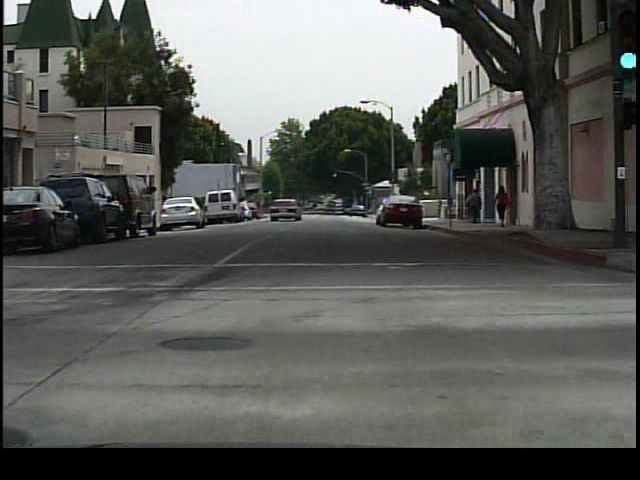person: (492, 180, 513, 229), (462, 185, 482, 227)
